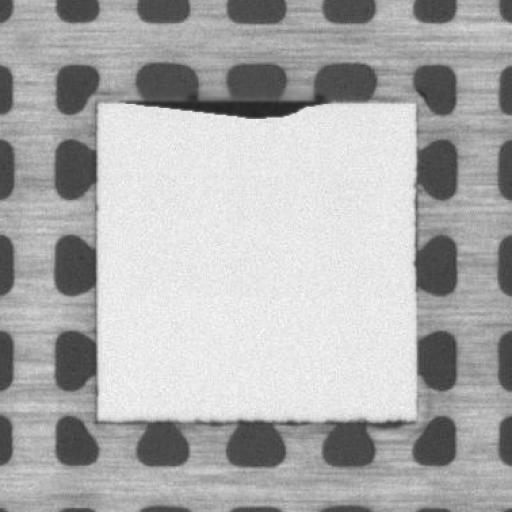DIE_BROKEN: (122, 93, 325, 120)
